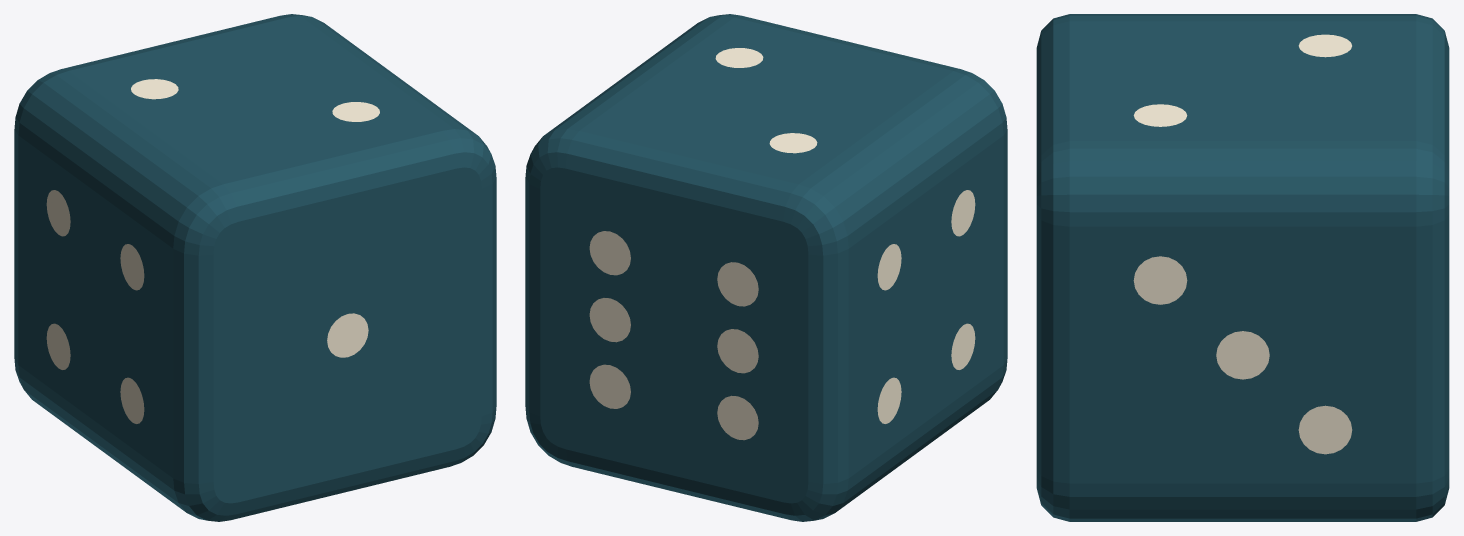
Rendered from die-0.glb.
3 renders of one model, left to right at view 1: azimuth 30°, elevation 25°; view 2: azimuth 150°, elevation 25°; view 3: azimuth 270°, elevation 25°, orthographic. The views are drawn at different scales.
Visible parts, largest first — view 1: 바다 주사위; view 2: 바다 주사위; view 3: 바다 주사위.
Part boxes in pixels (x1,y1,x2,y2): 바다 주사위: (14,14,496,521); 바다 주사위: (525,14,1007,521); 바다 주사위: (1036,14,1449,521).
Bounding box in the file's own units: 0.02 × 0.02 × 0.02.
